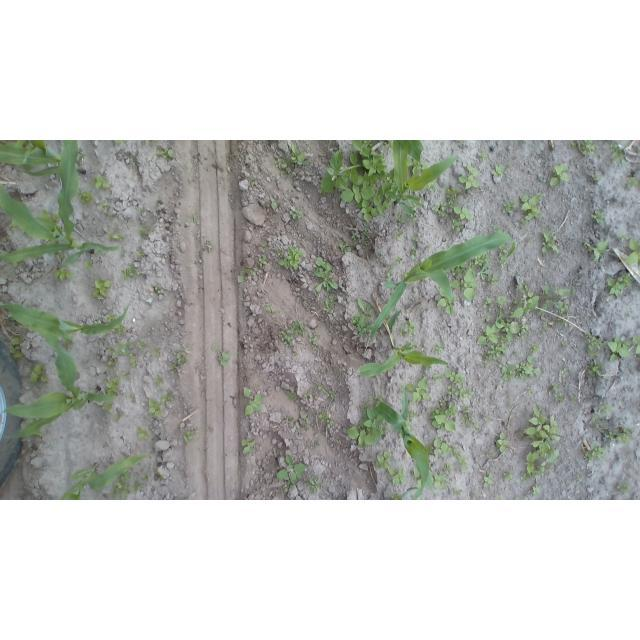Maize: (368, 230, 516, 339), (1, 141, 120, 268), (4, 325, 117, 439), (378, 388, 430, 500), (389, 141, 459, 216), (1, 302, 132, 338), (58, 454, 150, 500), (2, 141, 86, 178), (357, 343, 448, 376), (396, 141, 424, 164)
Weeds: (319, 140, 394, 222), (477, 285, 568, 344), (524, 402, 561, 477), (349, 405, 386, 448), (451, 266, 480, 302), (112, 473, 149, 500), (106, 341, 140, 369), (311, 258, 339, 290), (278, 454, 308, 482), (350, 299, 373, 335), (432, 407, 459, 434), (475, 254, 500, 283), (281, 319, 305, 349), (518, 193, 544, 220), (512, 357, 542, 380), (607, 274, 632, 301), (407, 376, 430, 403), (243, 386, 263, 416), (277, 246, 302, 270), (609, 337, 631, 362), (459, 164, 481, 188), (606, 427, 636, 444), (584, 240, 608, 261), (425, 438, 452, 456), (540, 231, 562, 253), (551, 163, 572, 186), (7, 339, 27, 360), (28, 362, 48, 383), (211, 342, 230, 364), (609, 143, 628, 165), (449, 384, 475, 400), (437, 292, 455, 315), (624, 240, 640, 265), (398, 318, 419, 337), (430, 471, 451, 489), (462, 406, 479, 428), (586, 335, 602, 358), (170, 349, 186, 372), (91, 279, 111, 297), (387, 465, 406, 483), (148, 398, 165, 418), (584, 446, 609, 459), (373, 449, 391, 467), (453, 206, 473, 222), (495, 431, 509, 453), (93, 174, 111, 191), (236, 267, 255, 283), (121, 264, 140, 280), (445, 187, 461, 206), (588, 359, 605, 376), (106, 375, 122, 393), (487, 344, 509, 357), (406, 157, 426, 171), (140, 224, 156, 241), (287, 144, 304, 160), (485, 297, 509, 307), (579, 141, 595, 156), (54, 268, 72, 281), (161, 393, 176, 408), (319, 384, 335, 398), (320, 411, 333, 428), (156, 148, 176, 159), (274, 157, 286, 175), (78, 188, 92, 203), (455, 454, 469, 469), (501, 363, 512, 382), (504, 198, 517, 214), (433, 203, 448, 216), (243, 438, 255, 454), (137, 425, 150, 439), (105, 232, 125, 241), (446, 371, 464, 381), (300, 411, 312, 425), (483, 473, 494, 488), (361, 227, 372, 242), (325, 295, 334, 313), (289, 210, 305, 220), (616, 484, 632, 494), (311, 479, 321, 494), (633, 336, 640, 357), (413, 468, 421, 486), (592, 210, 604, 222), (309, 334, 320, 347), (338, 244, 352, 254), (138, 246, 149, 258), (100, 199, 113, 209), (85, 260, 98, 270), (407, 249, 419, 259), (589, 172, 601, 182), (184, 430, 193, 443), (289, 418, 299, 429), (153, 377, 163, 388), (452, 222, 464, 231), (122, 370, 135, 378), (493, 165, 503, 175), (627, 177, 636, 188), (561, 367, 569, 379), (187, 217, 200, 224), (266, 304, 275, 314), (444, 465, 454, 474), (529, 343, 539, 352), (621, 234, 629, 245), (376, 395, 383, 407), (271, 197, 277, 211), (284, 481, 291, 493), (432, 374, 444, 381), (497, 258, 507, 266), (497, 245, 507, 253), (113, 140, 126, 146), (138, 343, 151, 349), (477, 152, 488, 159), (156, 348, 163, 359), (435, 345, 446, 352), (305, 393, 314, 401), (116, 324, 125, 332), (557, 395, 566, 403), (397, 214, 406, 222), (532, 487, 540, 496), (260, 241, 270, 248), (287, 391, 297, 398), (504, 472, 511, 482), (552, 381, 559, 391), (522, 473, 529, 483), (396, 256, 404, 264), (259, 258, 268, 265), (520, 218, 527, 227), (571, 392, 578, 401), (131, 393, 137, 403), (392, 492, 400, 499), (485, 316, 492, 324), (411, 213, 419, 220), (103, 403, 112, 409), (351, 231, 357, 240), (428, 183, 437, 189), (107, 214, 117, 219), (528, 385, 533, 395), (114, 414, 121, 421), (107, 314, 113, 322), (494, 496, 503, 501), (488, 451, 495, 457), (515, 497, 529, 500), (154, 287, 162, 292), (411, 236, 419, 241), (455, 490, 465, 494), (151, 140, 160, 144), (570, 141, 576, 147), (388, 270, 393, 277), (159, 475, 165, 480), (252, 182, 258, 187), (604, 405, 610, 410), (155, 470, 160, 475), (142, 140, 147, 145), (398, 233, 403, 238), (441, 400, 447, 404), (457, 140, 463, 142)
